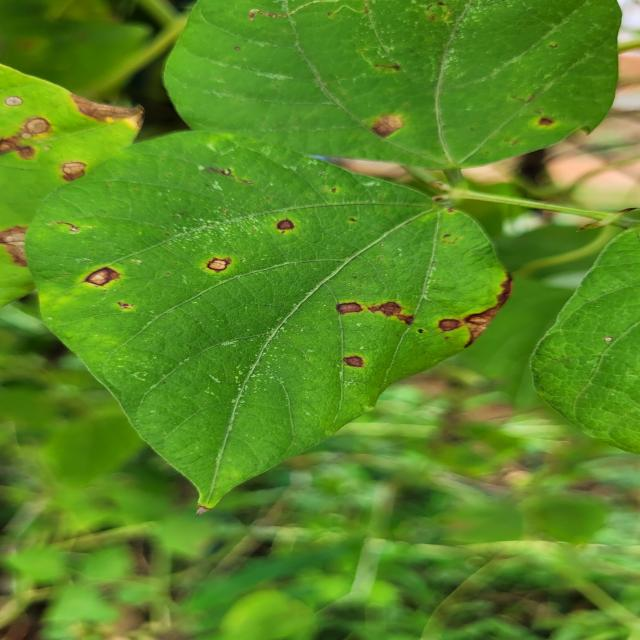Dolicos bean_cercospora leaf spot: (31, 129, 512, 509), (158, 0, 640, 180), (0, 57, 159, 312)
